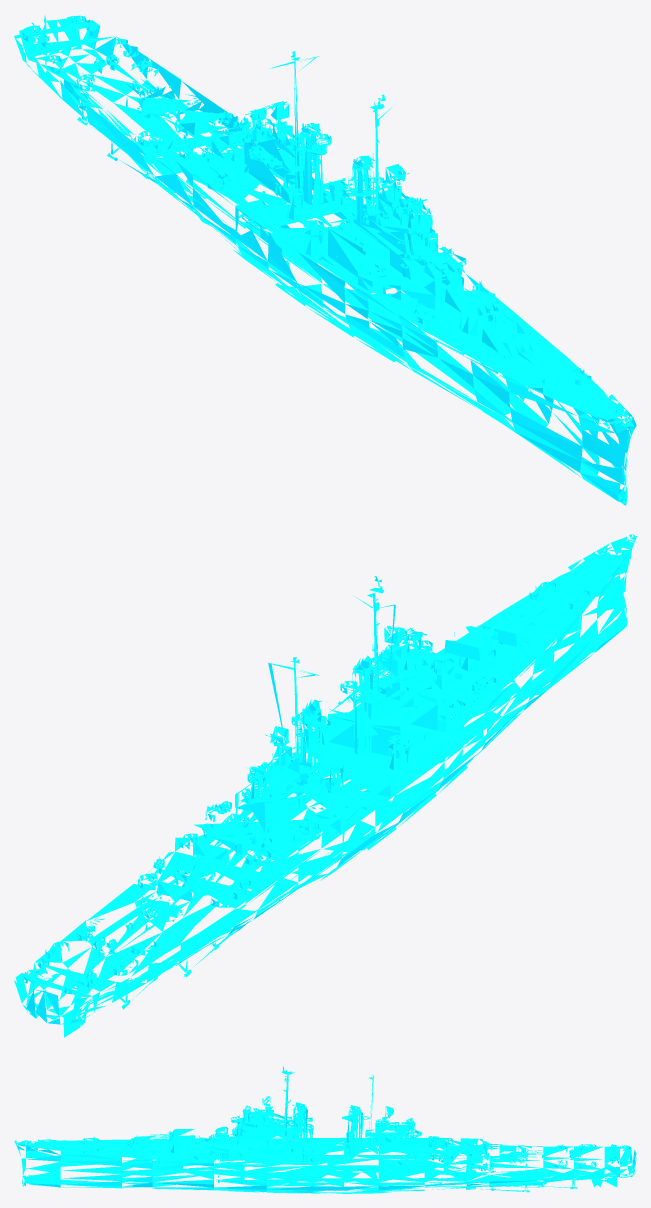
File: Anchorage.glb
3 renders of one model, top to bottom at view 1: azimuth 30°, elevation 25°; view 2: azimuth 150°, elevation 25°; view 3: azimuth 270°, elevation 25°, orthographic. The views are drawn at different scales.
Size of the model in its own units: 1.62 by 3.2 by 14.82.
